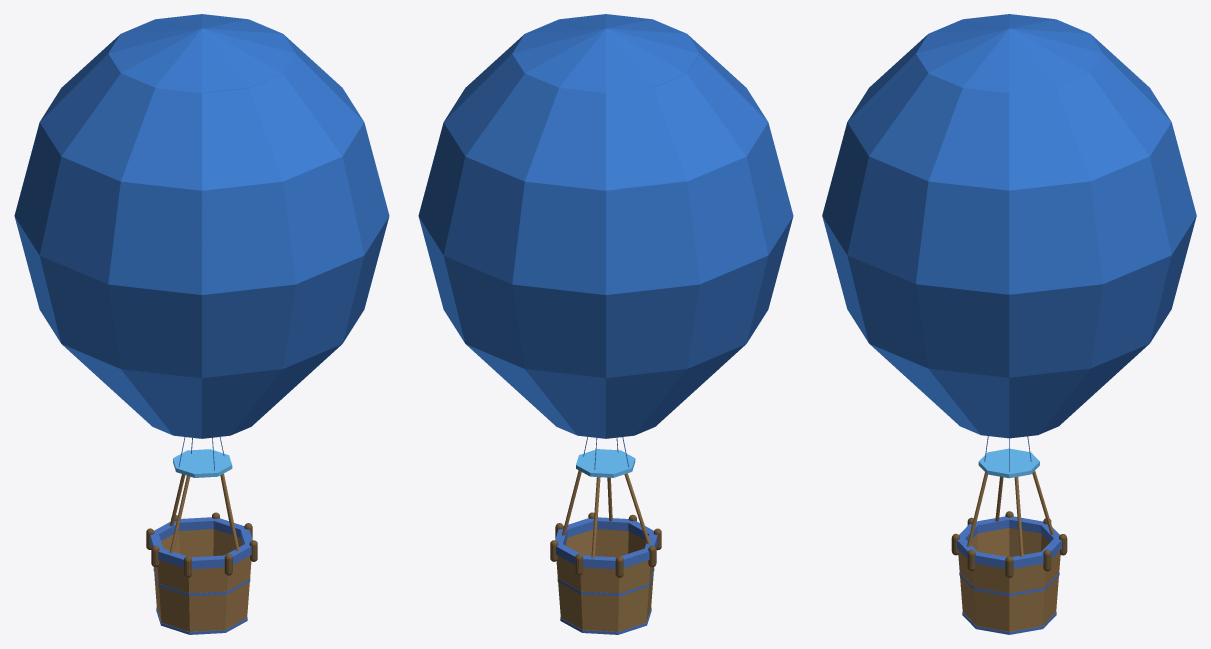
Rendered from 38de374a-d266-49c6-bd8a-66dbe12544d7.glb.
3 renders of one model, left to right at view 1: azimuth 30°, elevation 25°; view 2: azimuth 150°, elevation 25°; view 3: azimuth 270°, elevation 25°, orthographic.
Parts seen in each view (by area): view 1: Node; view 2: Node; view 3: Node.
Boxes of the visible parts, bbox=[...] form: Node: bbox=[14, 14, 389, 634]; Node: bbox=[418, 14, 793, 634]; Node: bbox=[822, 14, 1196, 634].
Size of the model in its own units: 280 by 484 by 280.
Materials: 1 (1 with a texture image).
